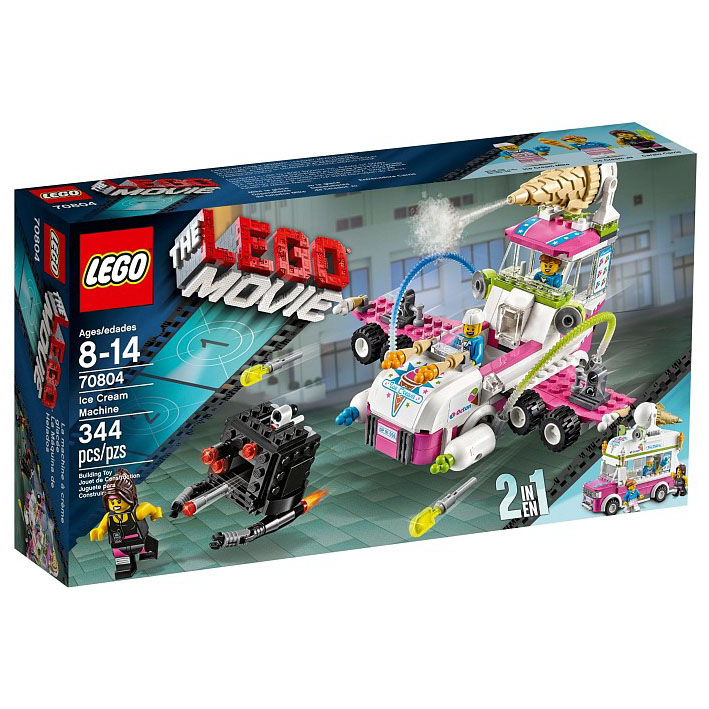LEGO: (74, 225, 159, 317), (40, 219, 72, 283), (25, 182, 97, 210)
